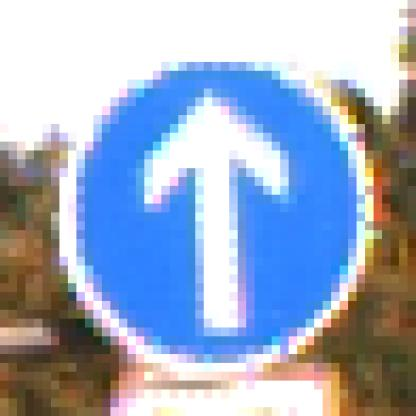AheadOnly: (44, 45, 366, 373)
